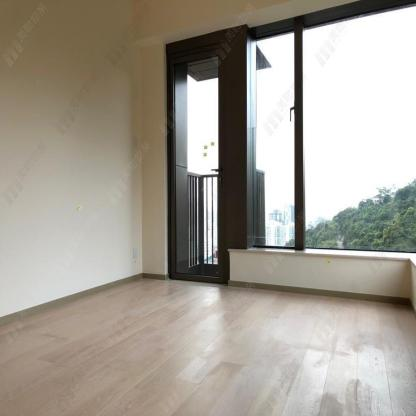Door: (164, 33, 224, 285)
Windowsill: (247, 0, 416, 267)
